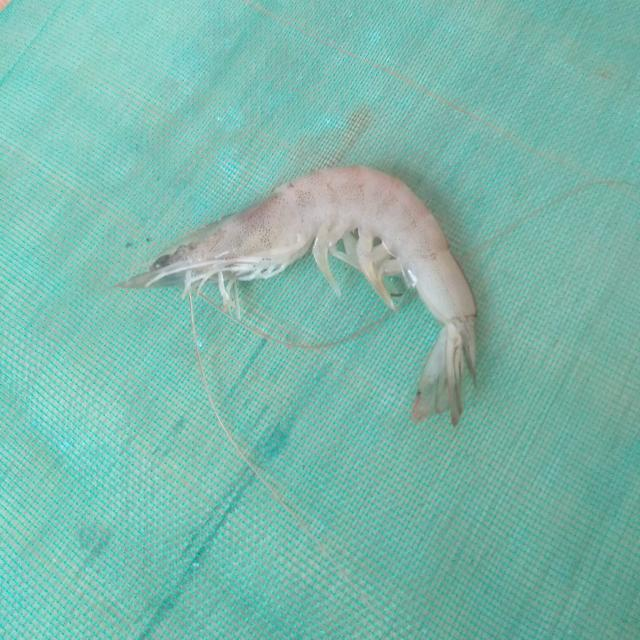shrimp: (120, 166, 477, 426)
